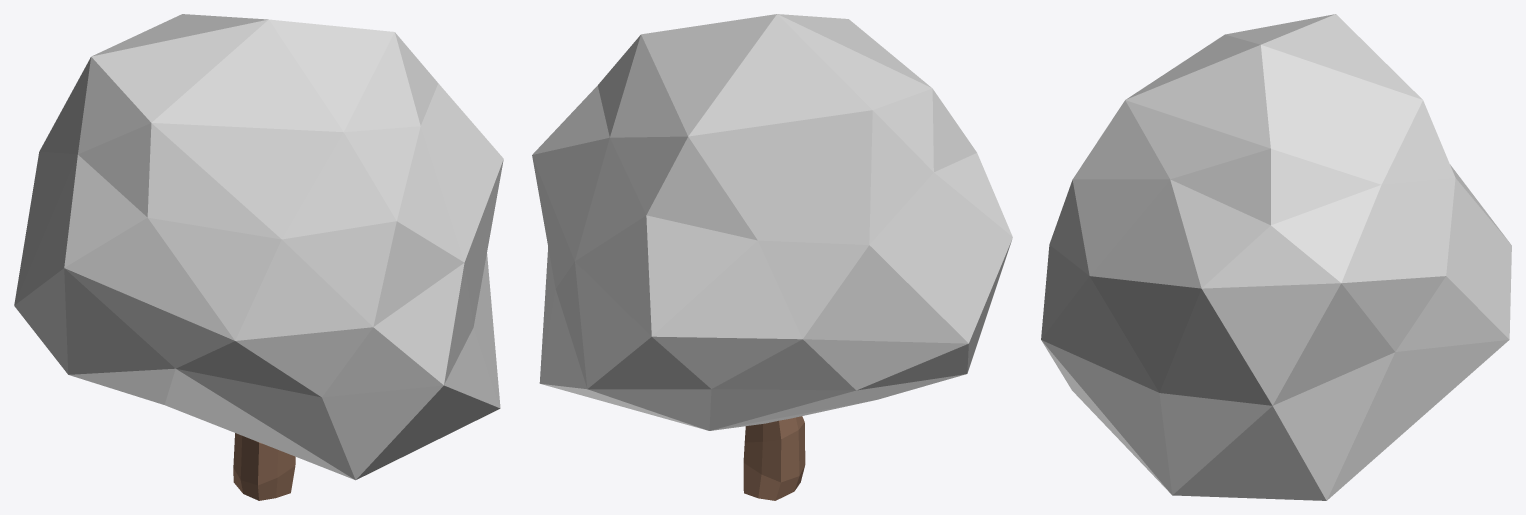
Rendered from Tree_61_White.fbx.
3 renders of one model, left to right at view 1: azimuth 30°, elevation 25°; view 2: azimuth 150°, elevation 25°; view 3: azimuth 270°, elevation 25°, orthographic. The views are drawn at different scales.
Parts seen in each view (by area): view 1: Tree_61_White_Part_1, Tree_61_White_Part_2; view 2: Tree_61_White_Part_1, Tree_61_White_Part_2; view 3: Tree_61_White_Part_1.
Part boxes in pixels (x1,y1,x2,y2): Tree_61_White_Part_1: (14, 14, 503, 480); Tree_61_White_Part_2: (233, 433, 295, 500); Tree_61_White_Part_1: (532, 14, 1012, 430); Tree_61_White_Part_2: (743, 416, 805, 500); Tree_61_White_Part_1: (1041, 14, 1511, 500).
Size of the model in its own units: 760 by 766 by 750.
